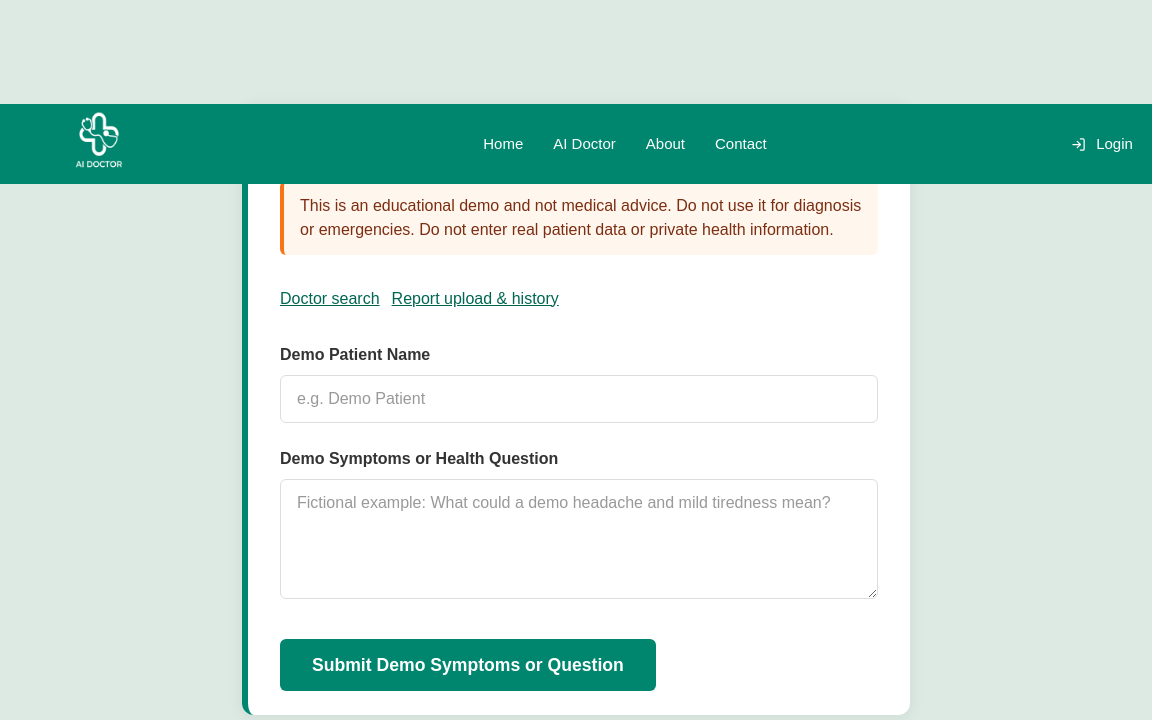
Test: SymptomChecker › displays API failure 400 without a success/handoff
Type "Demo Patient" into the field labelled "Demo Patient Name".
click(579, 399); type("Demo Patient")  # box [280, 375, 878, 423]
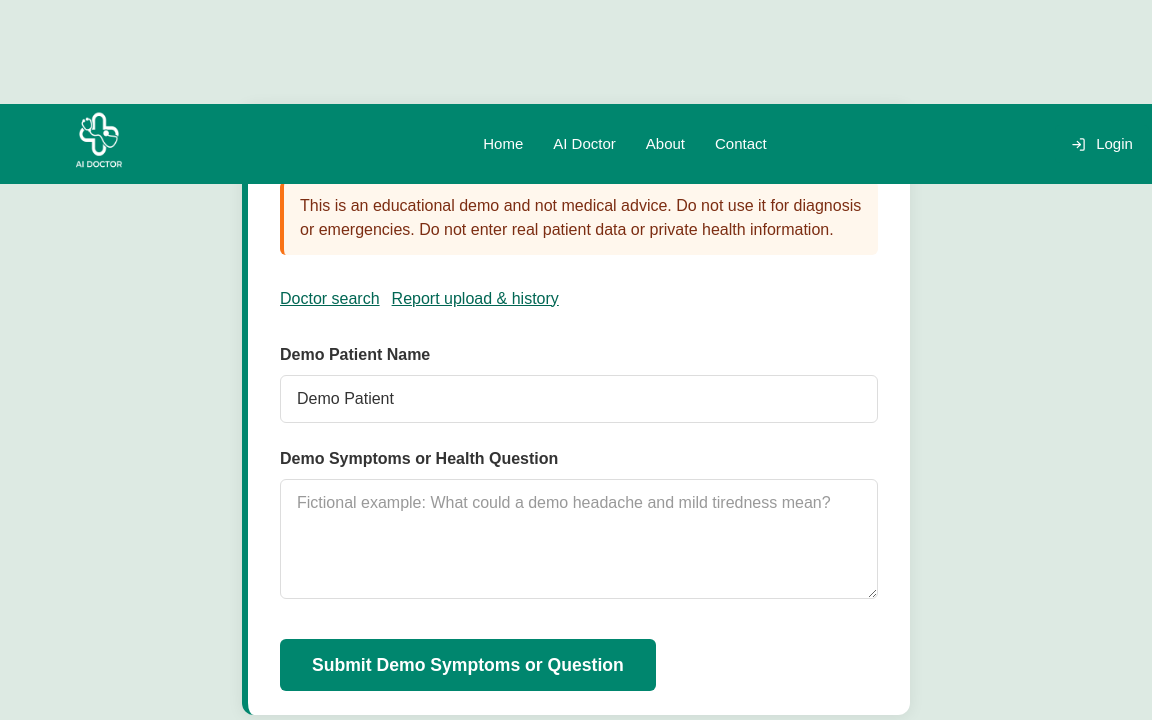
Replace the text in the text box labelled "Demo Symptoms or Health Question" with "Fictional headache" at [579, 539], box [280, 479, 878, 599]
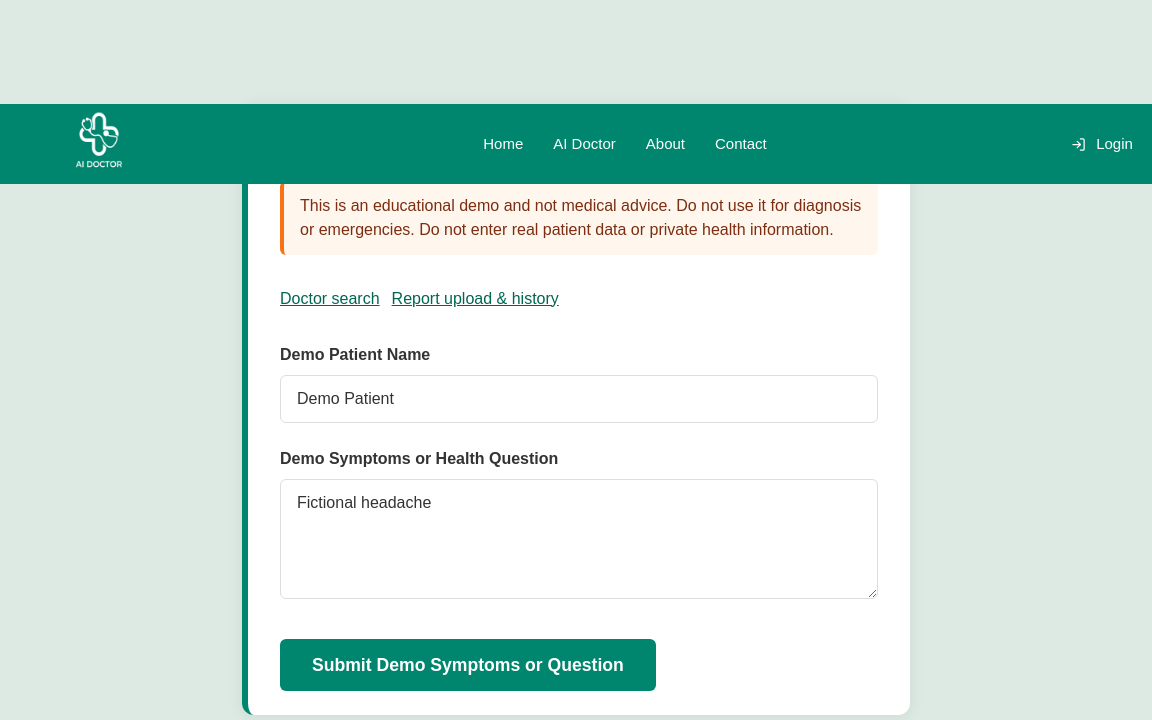
Click the button "Submit Demo Symptoms or Question".
click(468, 665)  # box [280, 639, 656, 691]
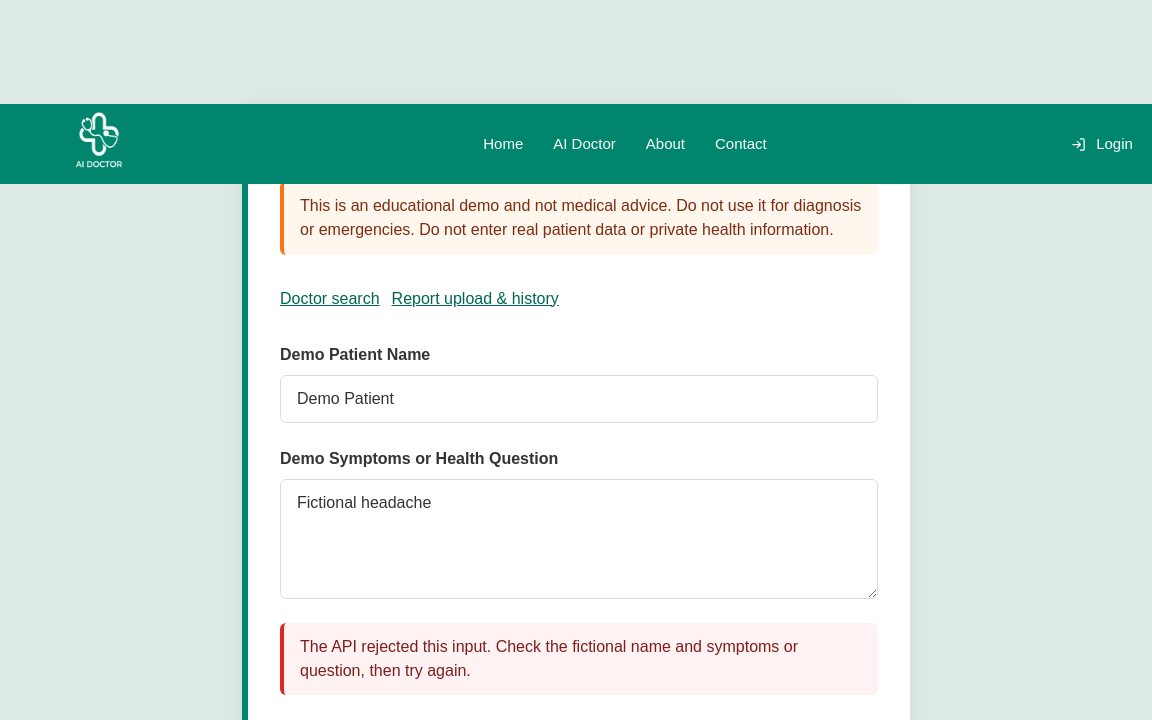
Expected: the message shows "API rejected this input", [300, 638, 798, 679]
